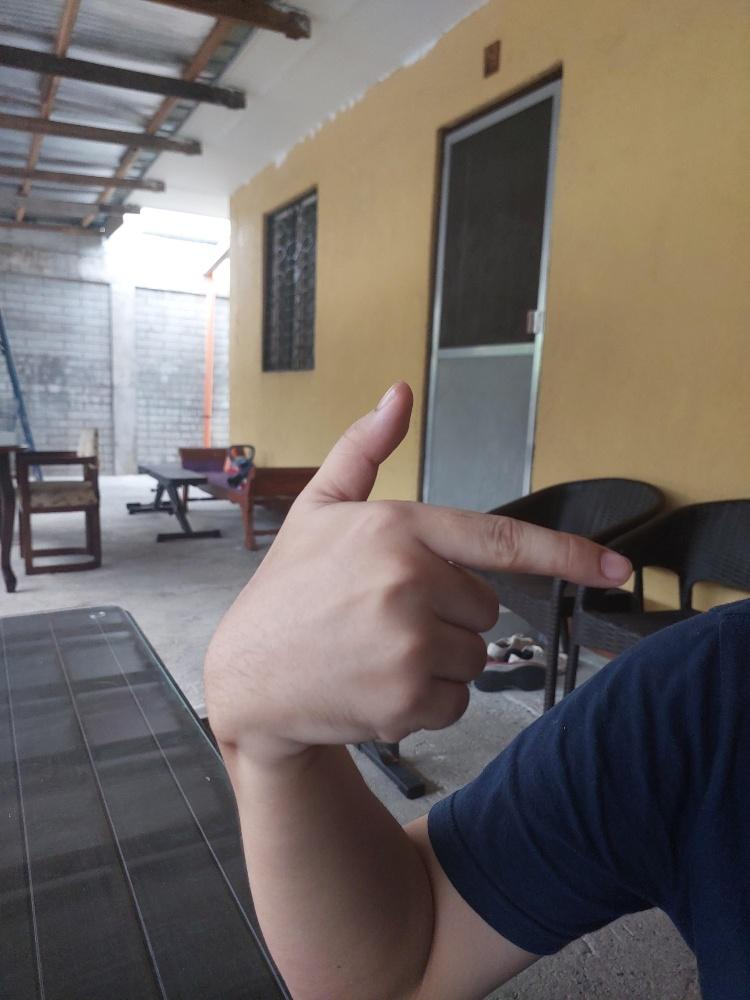g: (198, 375, 635, 746)
